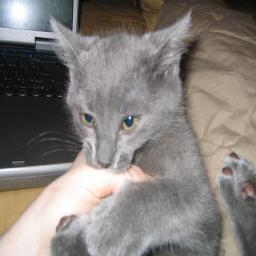catnose: (97, 158, 112, 170)
